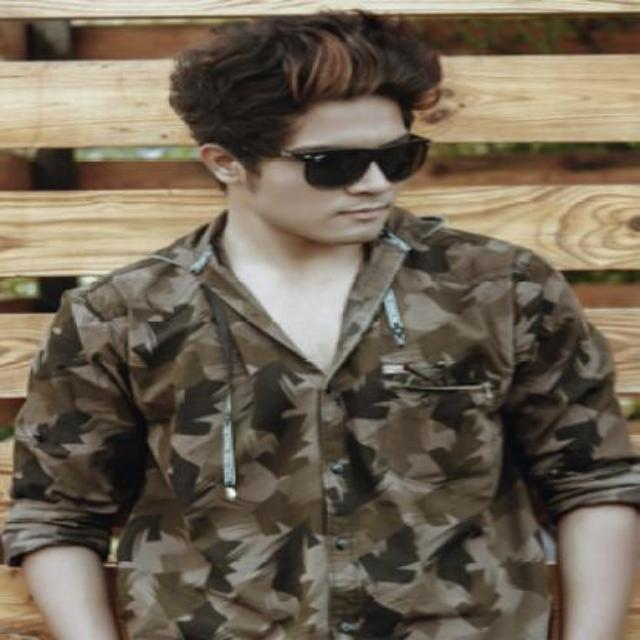glasses: (224, 136, 432, 188)
